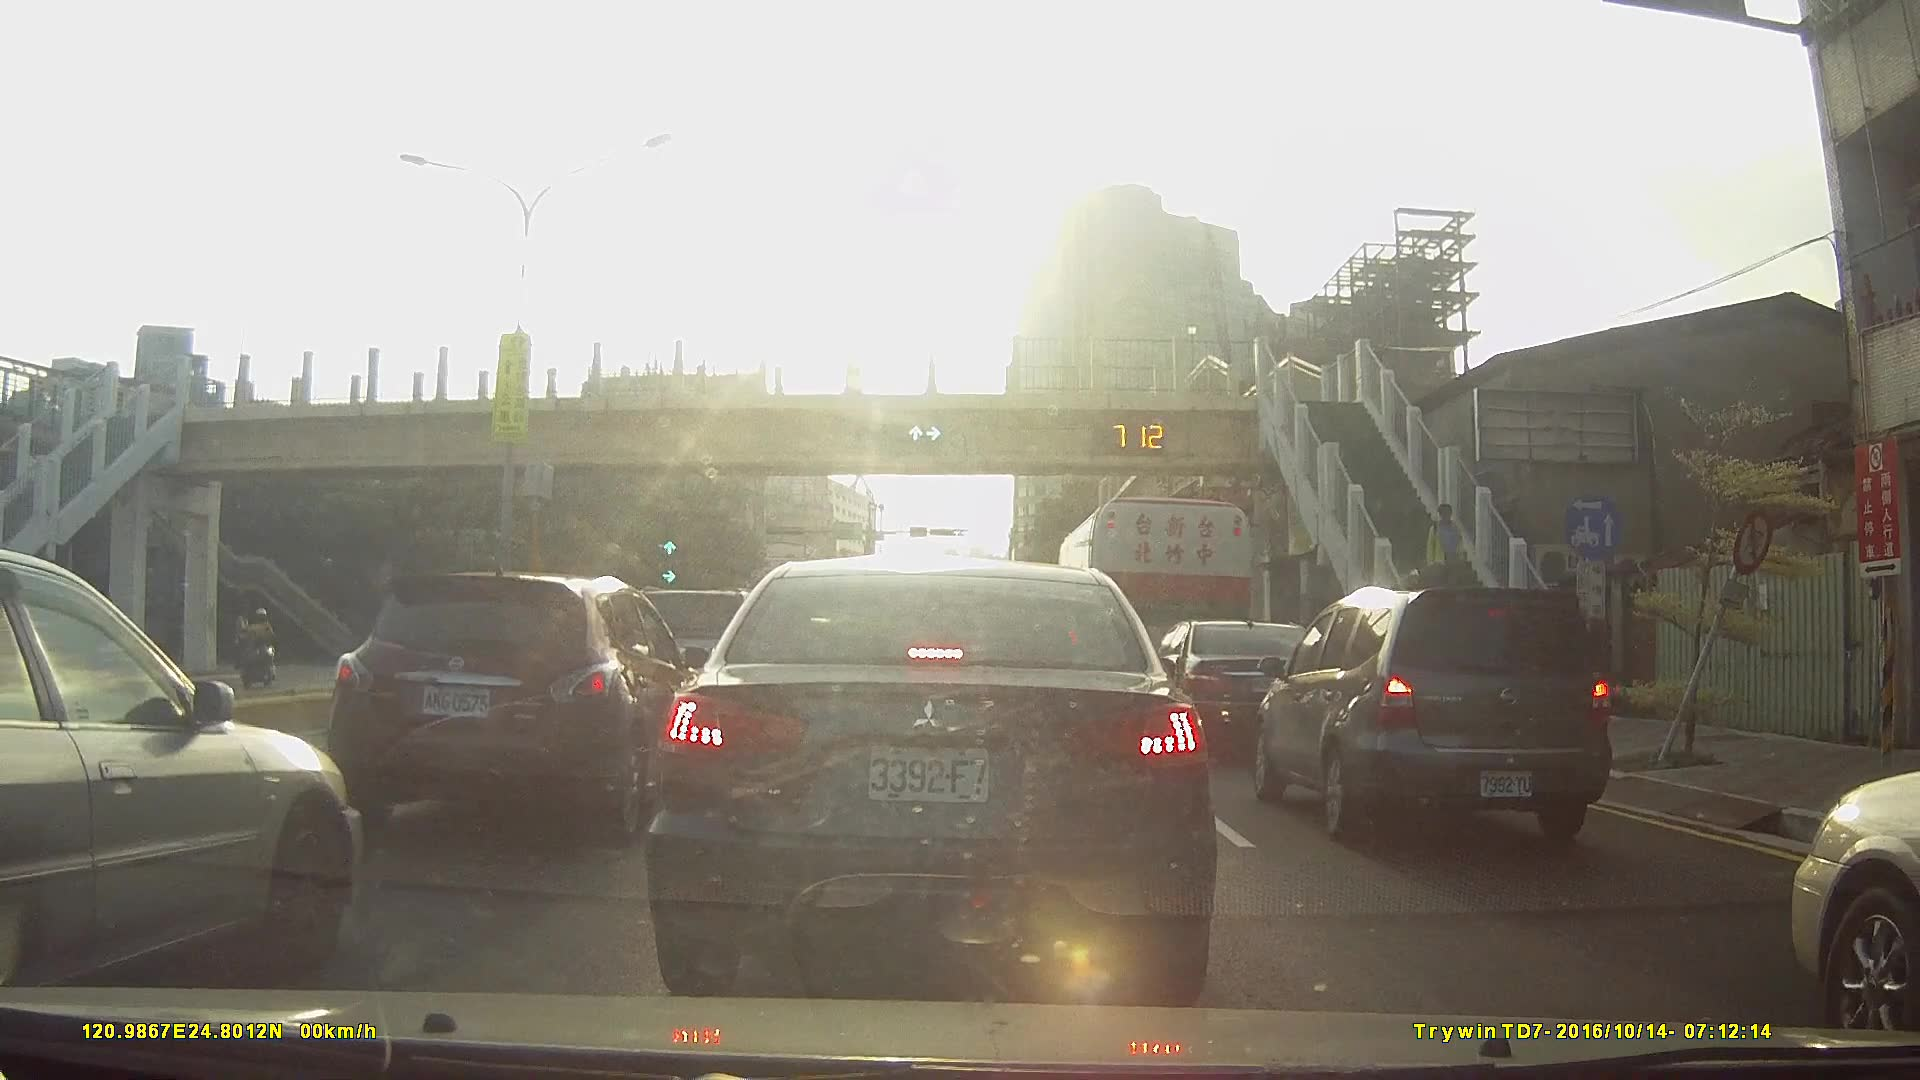pedestrian: (1422, 504, 1476, 608)
rider: (239, 610, 276, 685)
vehicle: (645, 553, 1221, 997), (0, 545, 371, 1010), (326, 567, 705, 836), (1247, 584, 1620, 842), (1143, 620, 1333, 742)
